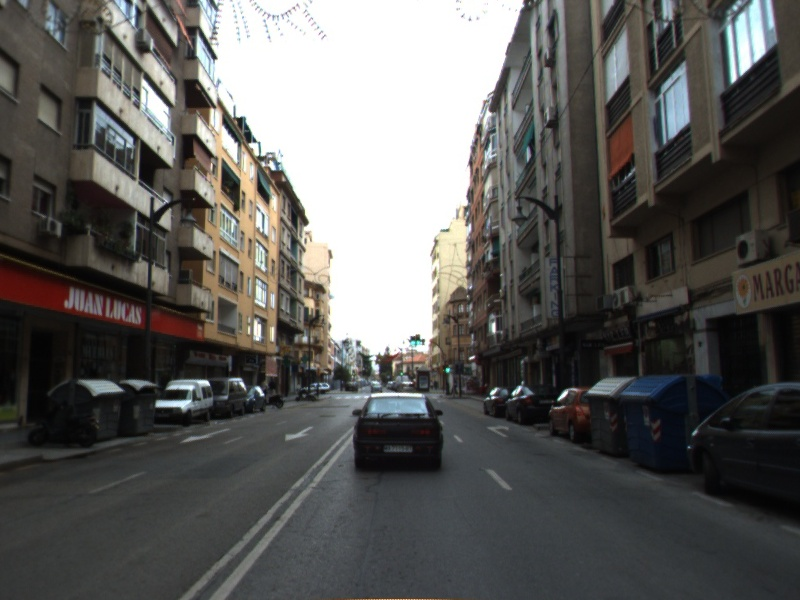RIGHT: (485, 423, 511, 439)
